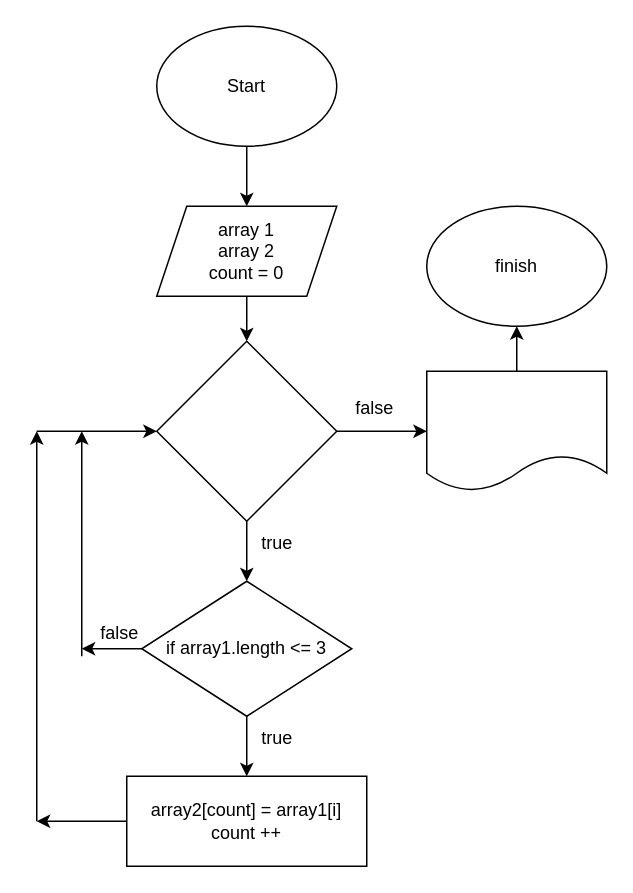
This 633x893 diagram has some shape labels left out. Here are the shapes that lost their labels. From the top down, the centre of each, then its label:
the point at 246,430: i = 0 i < array1.length i++
the point at 516,430: print array2
